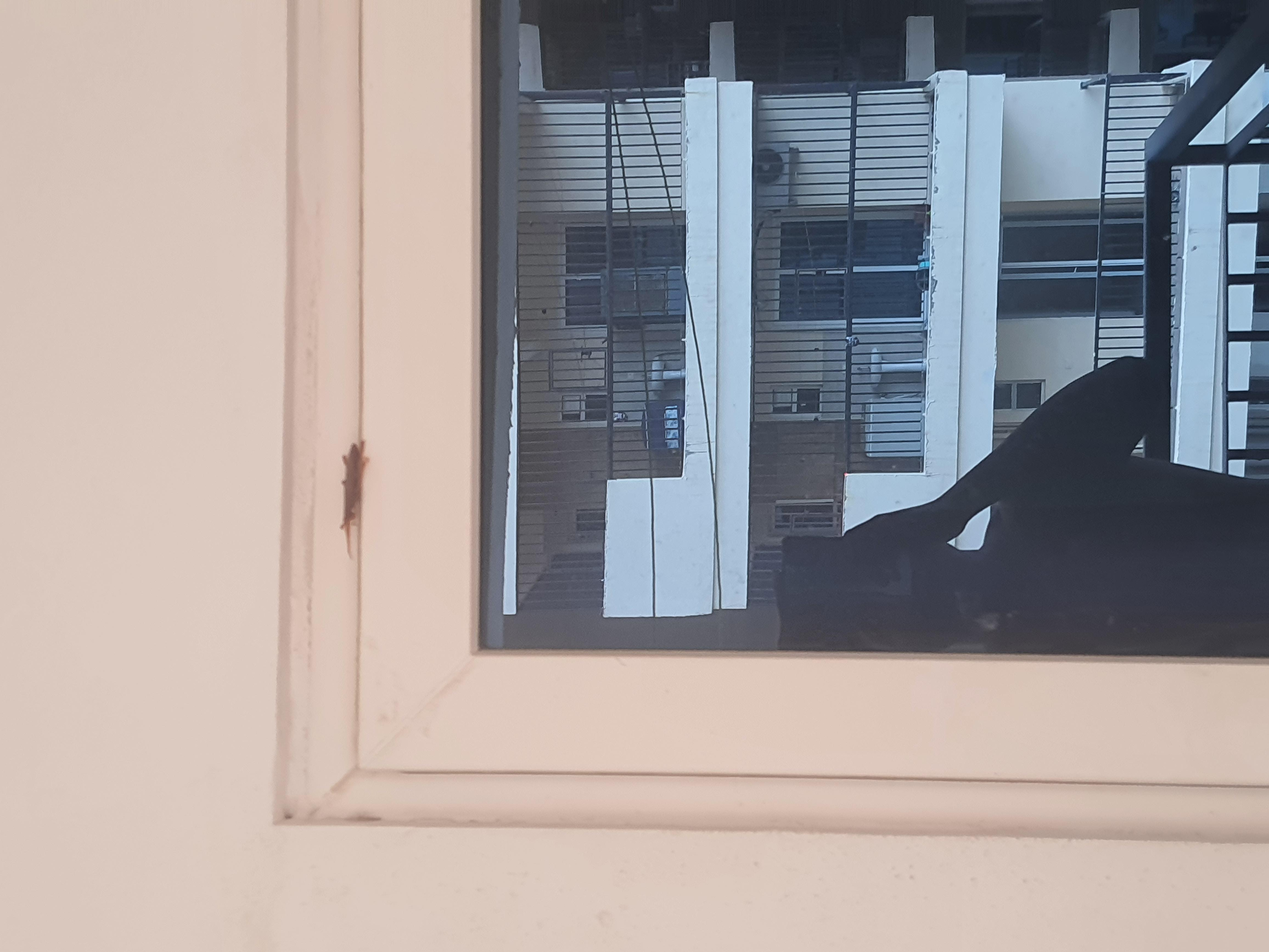cockroach: (514, 240, 701, 279)
